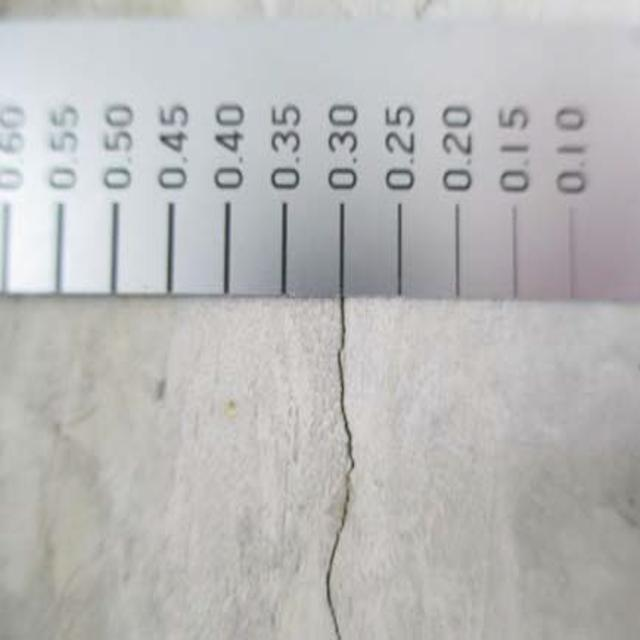crack: (312, 297, 377, 640)
